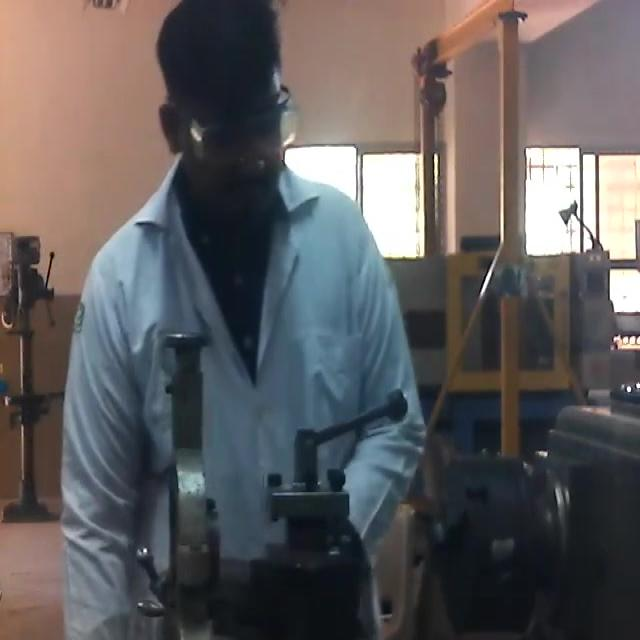googles: (188, 95, 300, 163)
labcoat: (64, 153, 428, 640)
